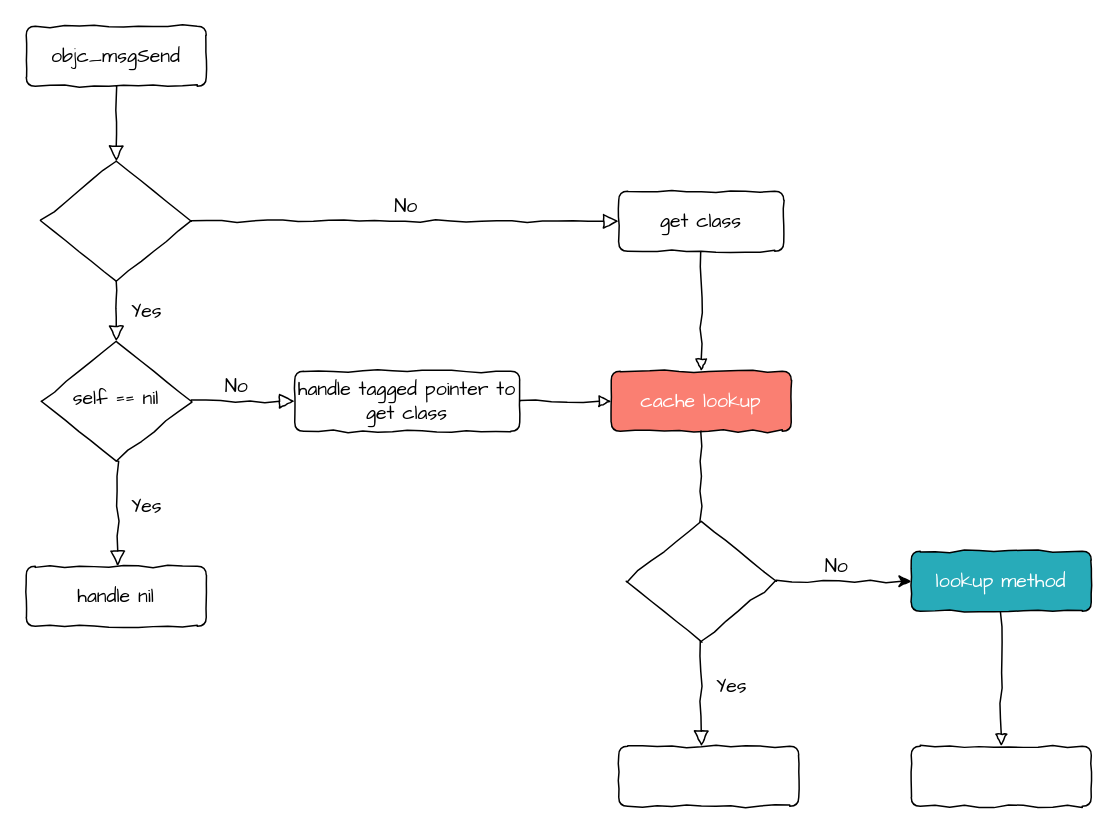
Some shapes in this 1118 by 833 pixel diagram are drawn without their labels. Each missing label, with the centre of its shape:
"call cached imp" goes at point 708,775.
"call imp" goes at point 1000,775.
"exist" goes at point 700,580.
"self <= 0" goes at point 115,220.
